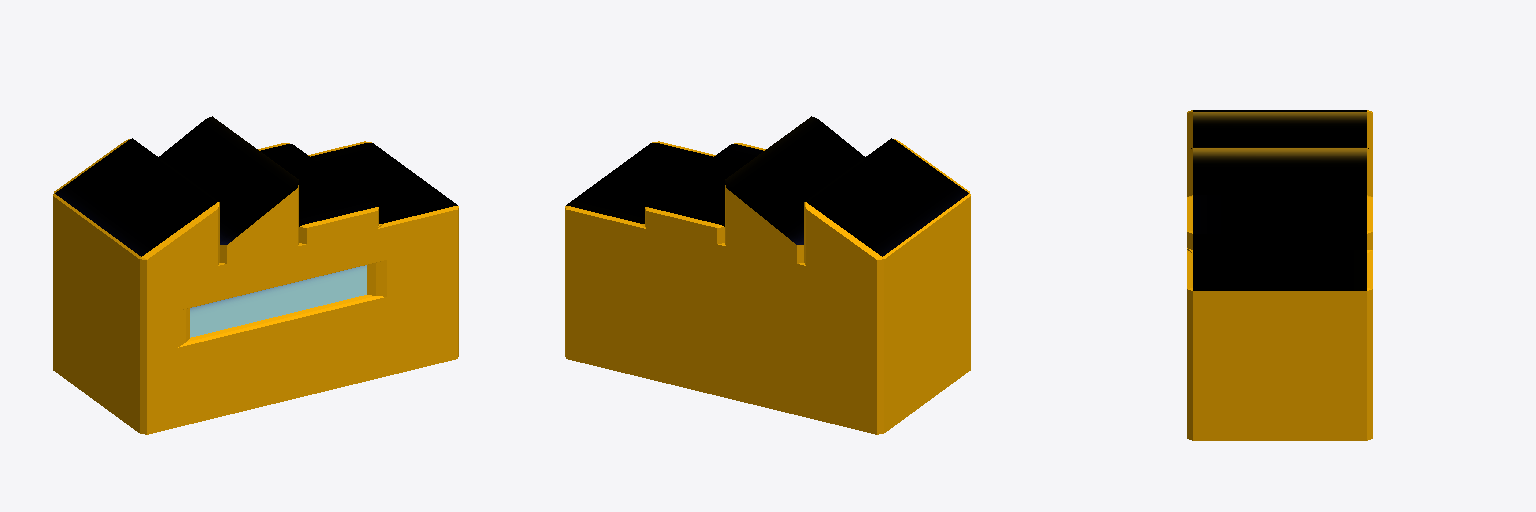
The picture shows the model from 3 angles: view 1: azimuth 30°, elevation 25°; view 2: azimuth 150°, elevation 25°; view 3: azimuth 270°, elevation 25°; orthographic projection.
Parts seen in each view (by area): view 1: 立方体.011; view 2: 立方体.011; view 3: 立方体.011.
Part boxes in pixels (bbox=[...]): 立方体.011: bbox=[53, 116, 458, 434]; 立方体.011: bbox=[565, 116, 970, 434]; 立方体.011: bbox=[1187, 110, 1372, 440].
Size of the model in its own units: 23.18 by 14.95 by 11.7.
Materials: 1 (1 with a texture image).